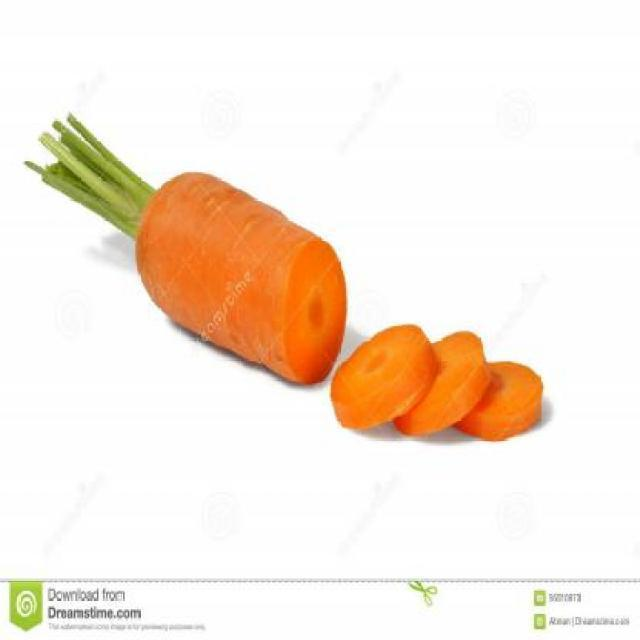carrot: (132, 161, 352, 394)
